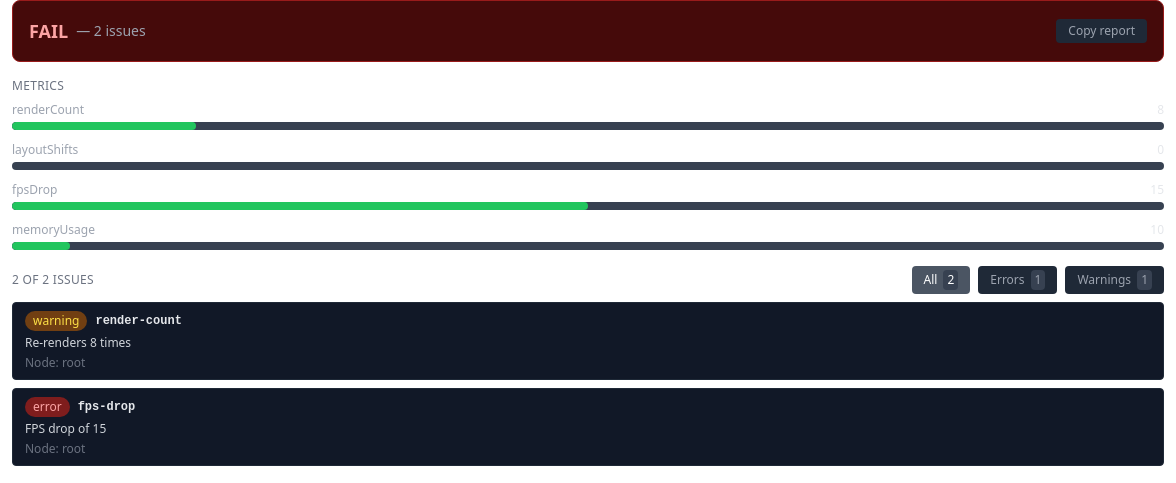
D08: ResultDetailView with filter › hides warning issues when Errors filter is active
The width and height of the screenshot is (1176, 483).
Click the button "Errors 1": (1018,280) [978,266,1058,294]
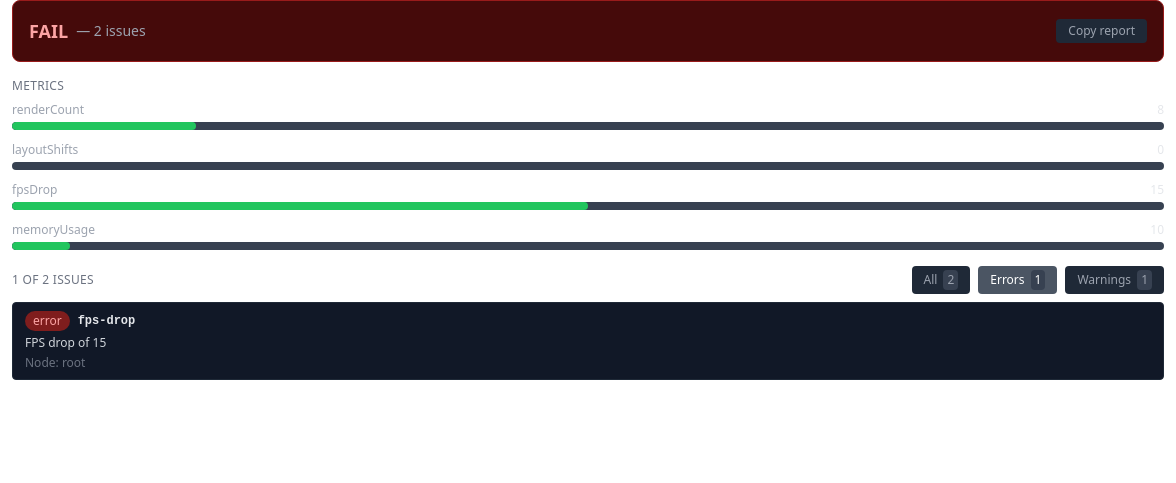
Result: the text "render-count" is gone
Result: the text "fps-drop" is shown at [78,313,135,329]
